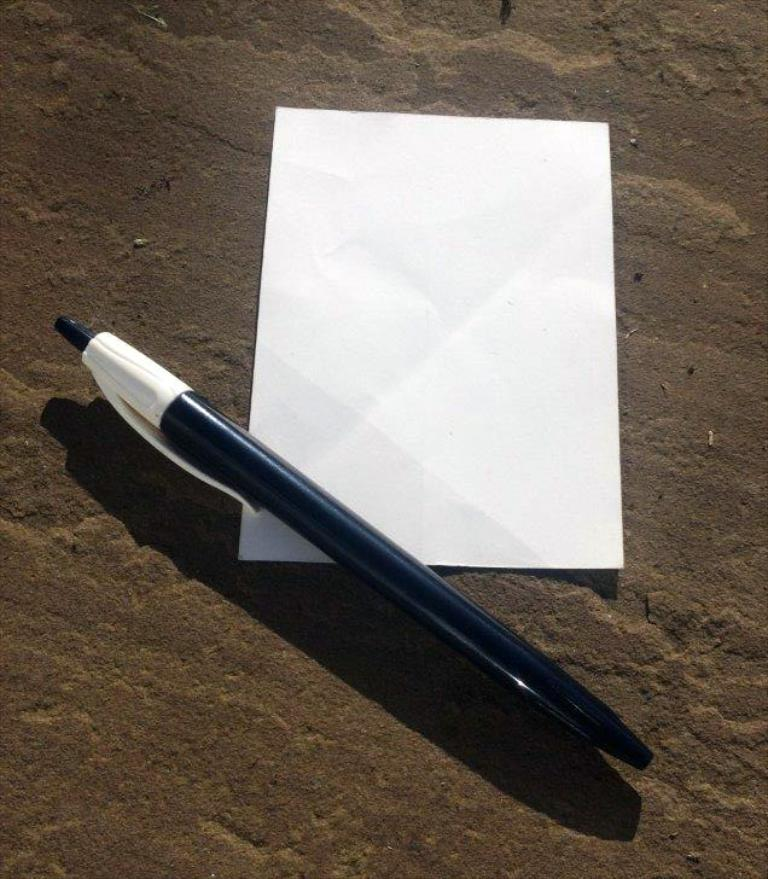Pen: (54, 316, 662, 773)
